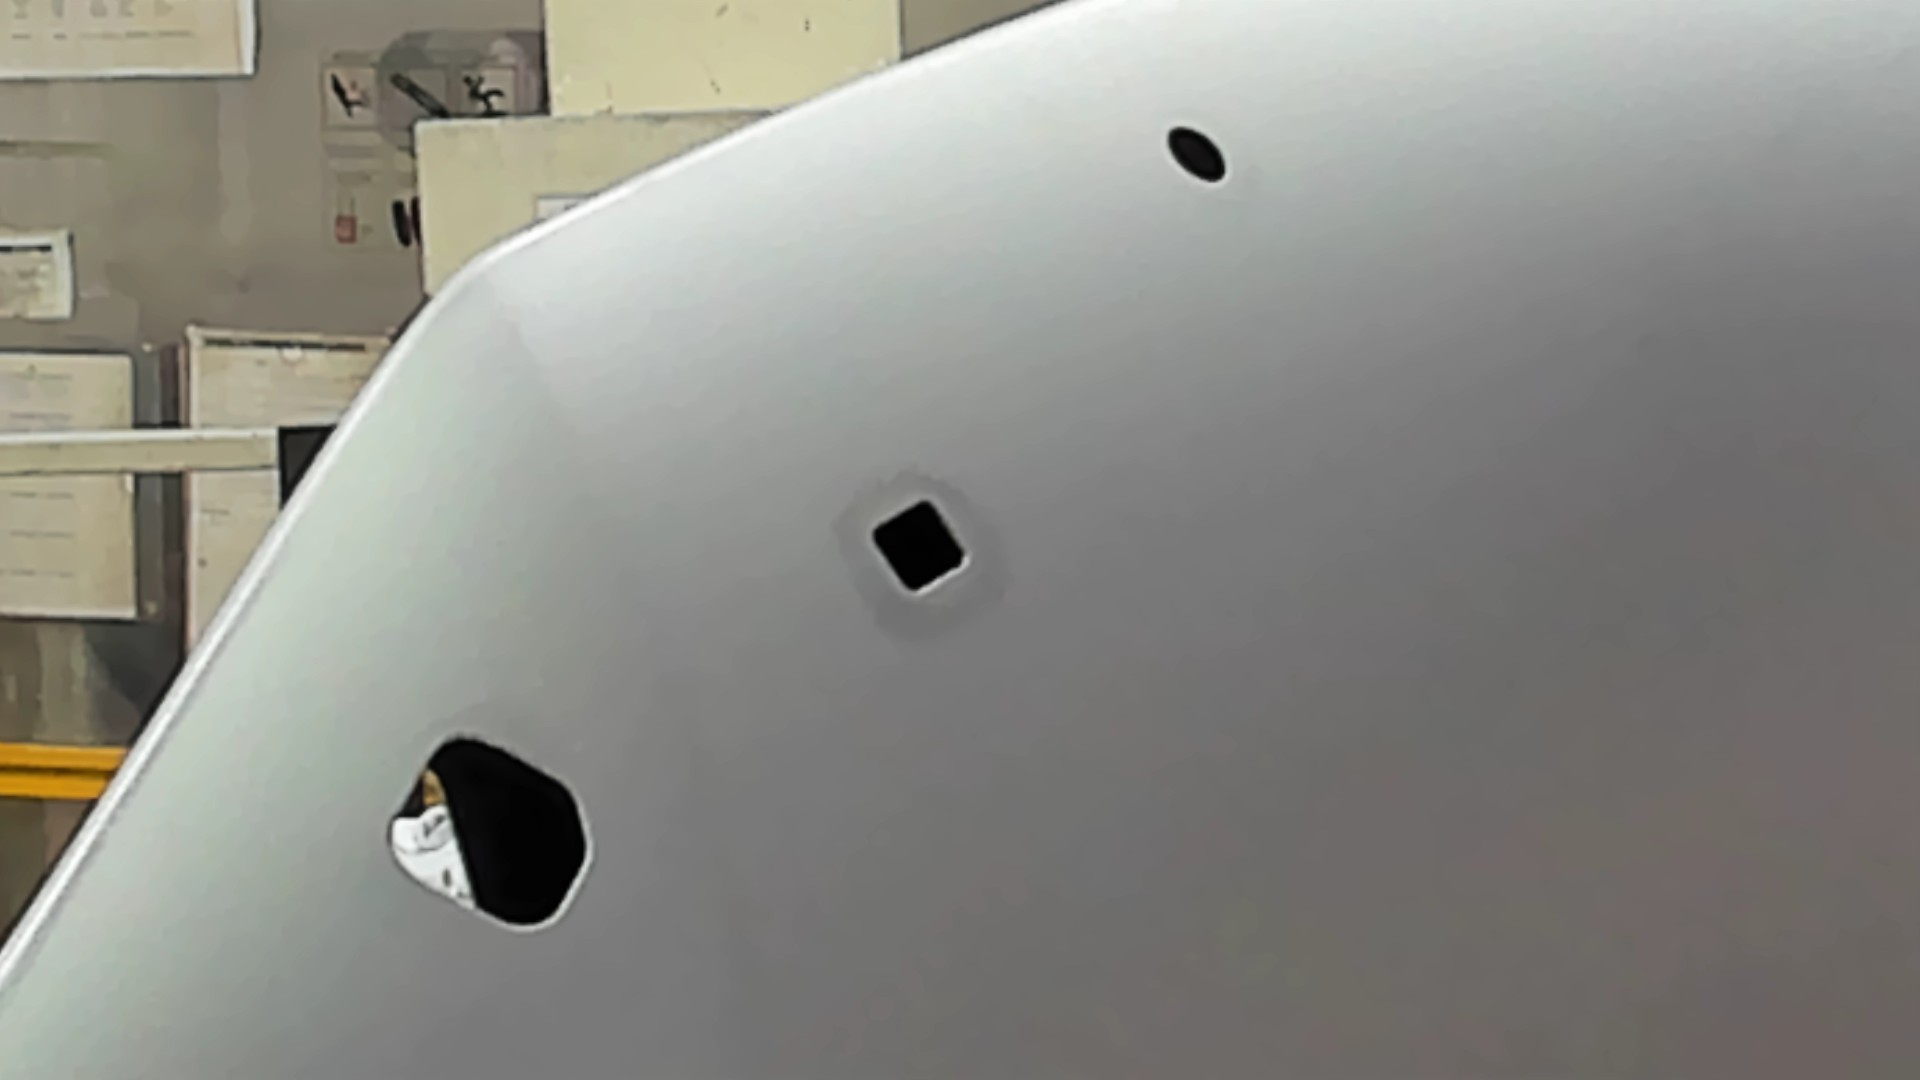capo: (984, 191, 1920, 1080)
chico: (1164, 123, 1230, 189)
grande: (375, 727, 600, 944)
mediano: (868, 492, 975, 601)
